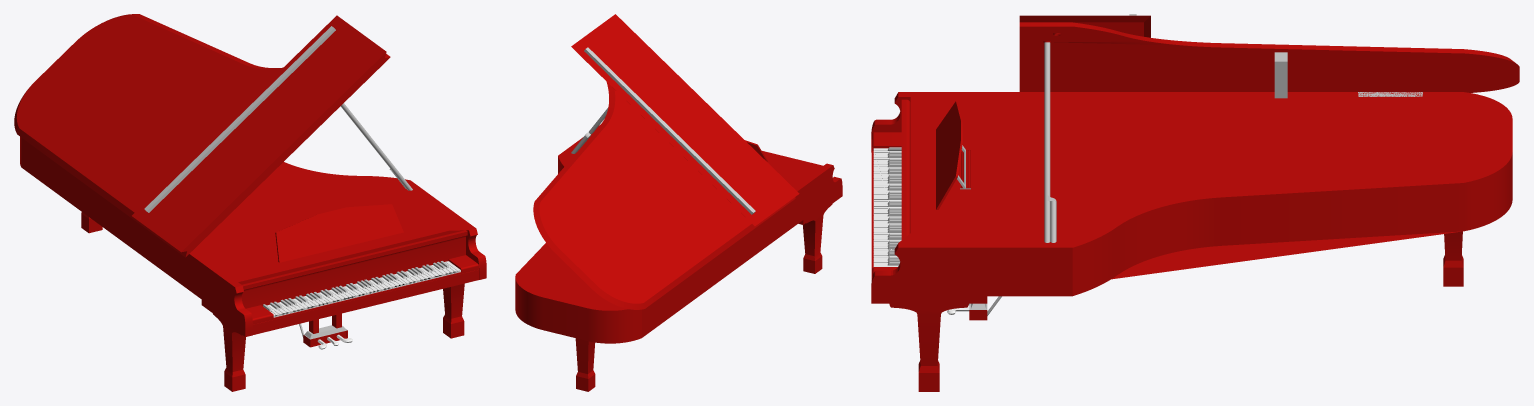
The model's file is GrandPiano.fbx.
3 renders of one model, left to right at view 1: azimuth 30°, elevation 25°; view 2: azimuth 150°, elevation 25°; view 3: azimuth 270°, elevation 25°, orthographic. The views are drawn at different scales.
Visible parts, largest first — view 1: Piano; view 2: Piano; view 3: Piano.
Part boxes in pixels (bbox=[...]): Piano: bbox=[14, 14, 486, 391]; Piano: bbox=[515, 14, 842, 391]; Piano: bbox=[871, 14, 1519, 391].
Size of the model in its own units: 292 by 297 by 497.
